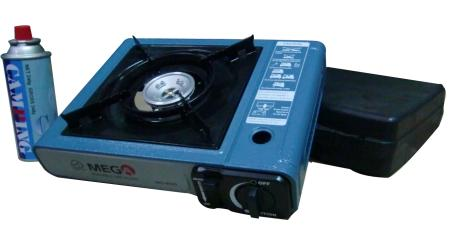Aerosol_cans: (1, 23, 63, 164)
